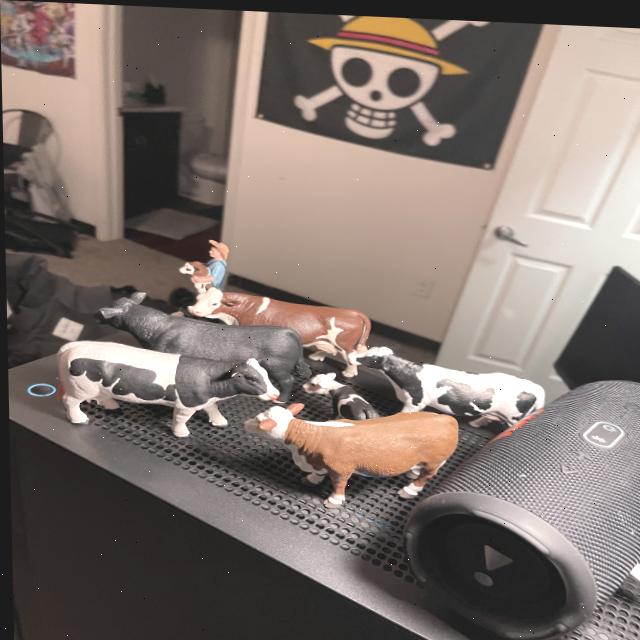cow: (89, 260, 310, 401), (49, 337, 280, 444), (241, 403, 457, 508), (340, 337, 546, 436), (183, 279, 373, 365), (298, 360, 381, 436), (177, 252, 217, 292)
person: (200, 237, 229, 289)
